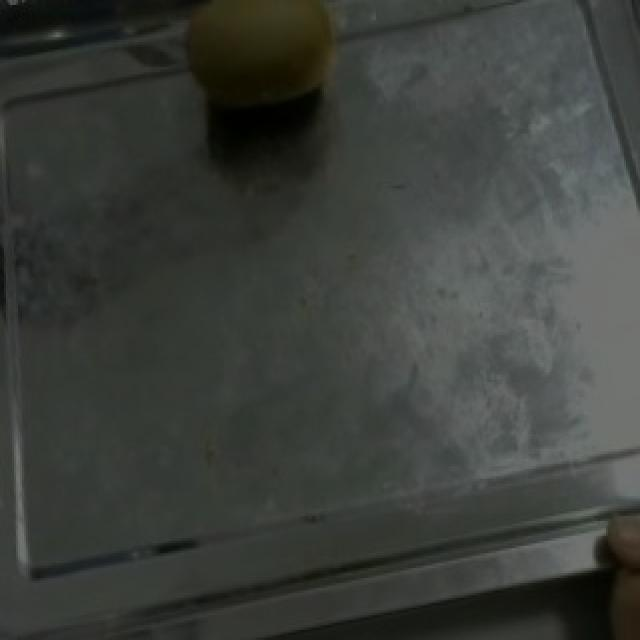Fruit: (154, 0, 370, 124)
